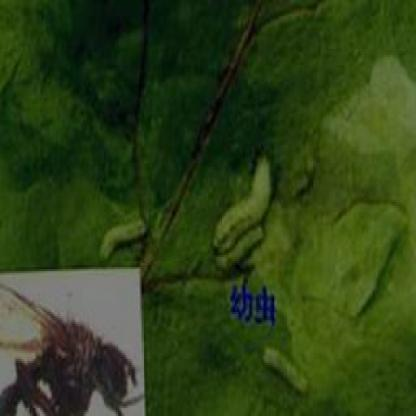whorl-maggot: (208, 140, 275, 274), (256, 338, 320, 400), (98, 214, 149, 258)
